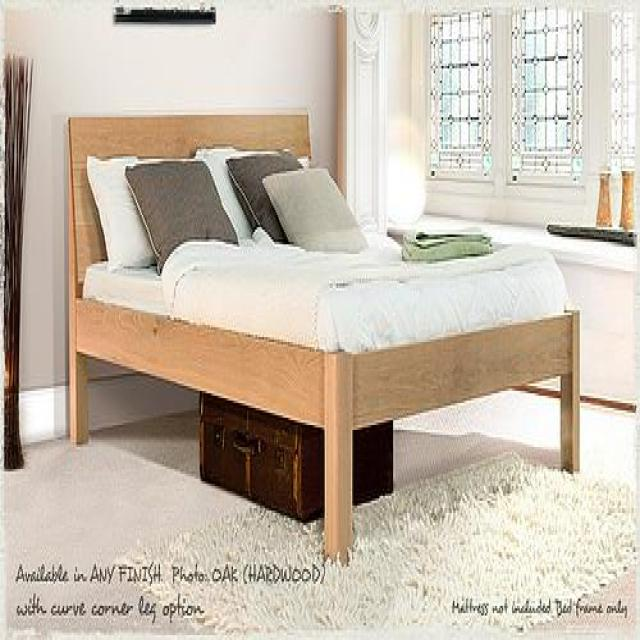bed: (64, 108, 580, 566)
